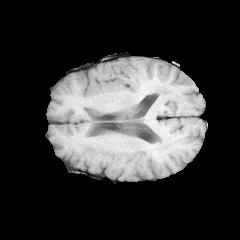glioma: (93, 60, 172, 96)
